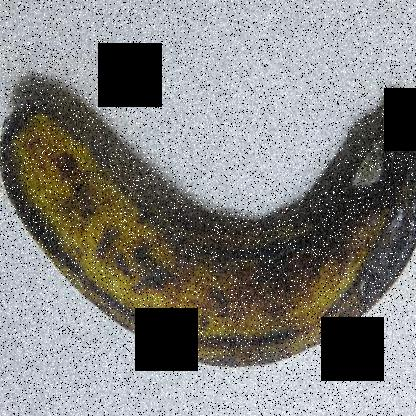overripe: (1, 64, 415, 393)
rotten: (316, 123, 415, 329)
